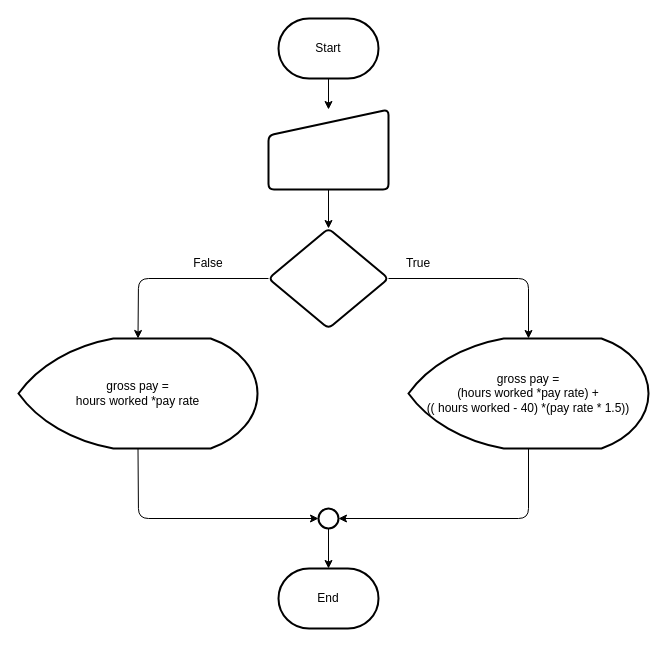
Image size: 666x646. Some labels were removed from this diagram. Each missing label, with the centre of its shape:
"hours worked > 40" belongs at point 328,278.
"hours worked pay rate" belongs at point 328,149.
